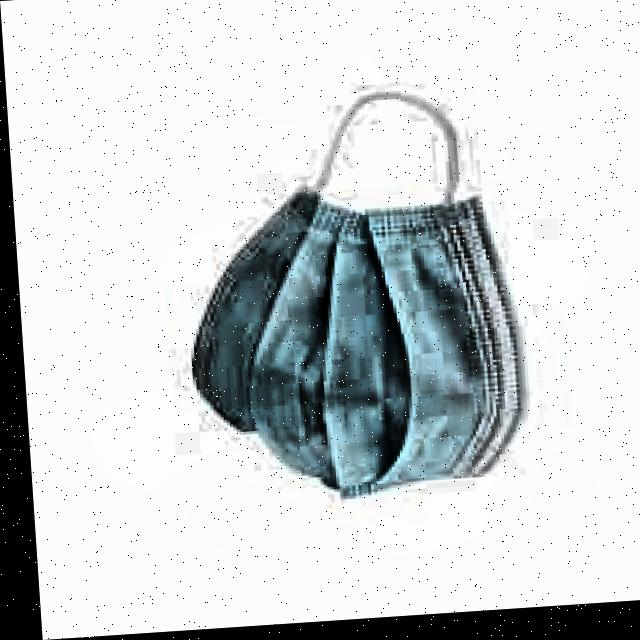trash: (170, 172, 527, 506)
